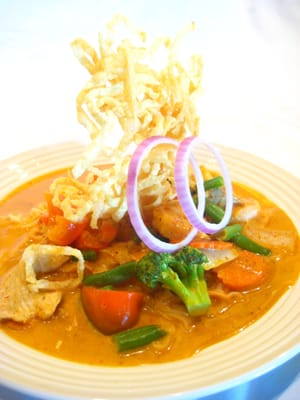curry: (135, 247, 213, 317)
salad: (126, 136, 286, 270)
sushi: (1, 123, 300, 392)
